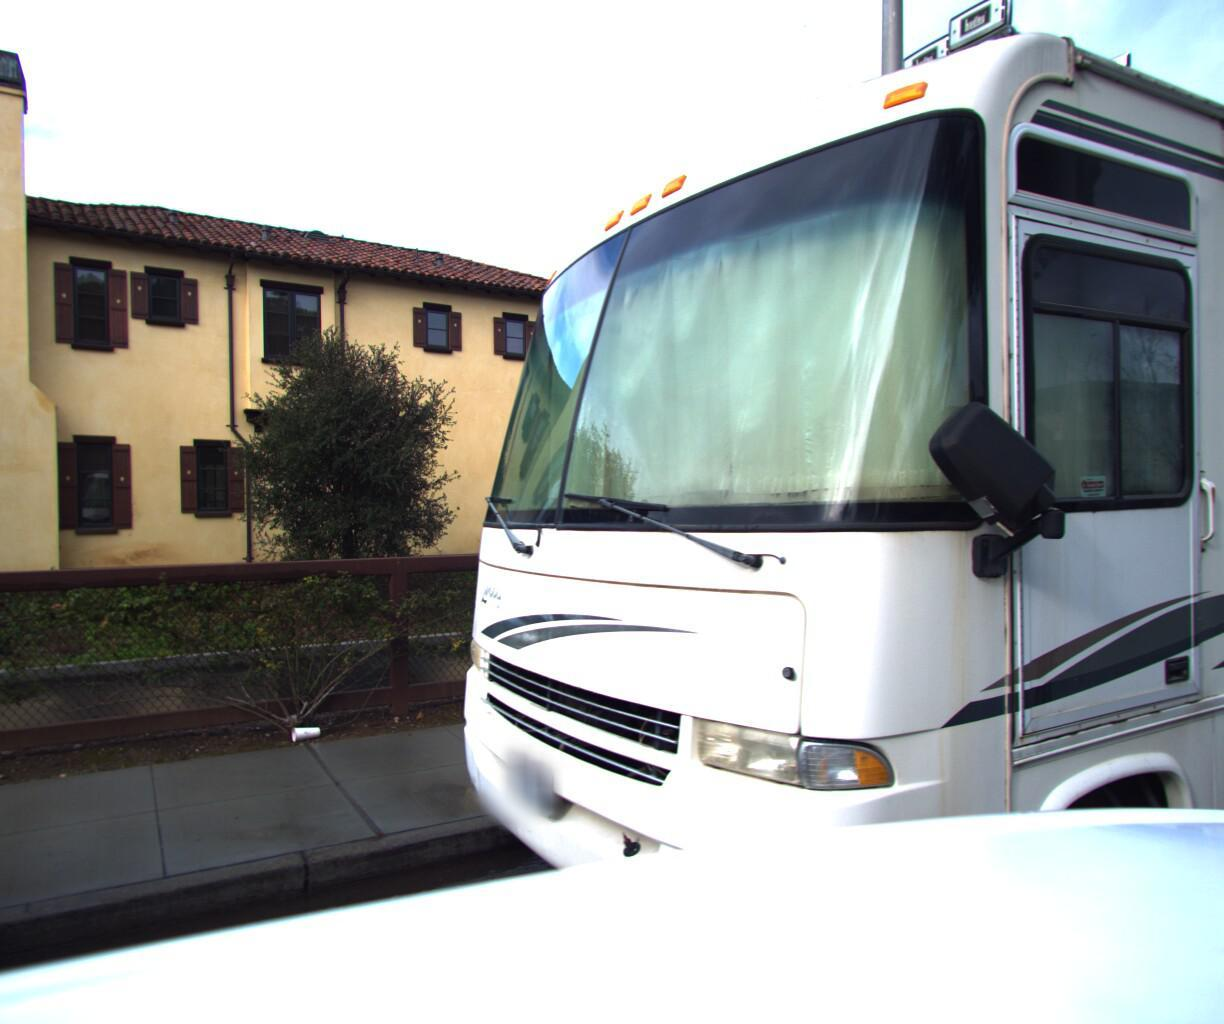truck: (393, 0, 1224, 1024)
